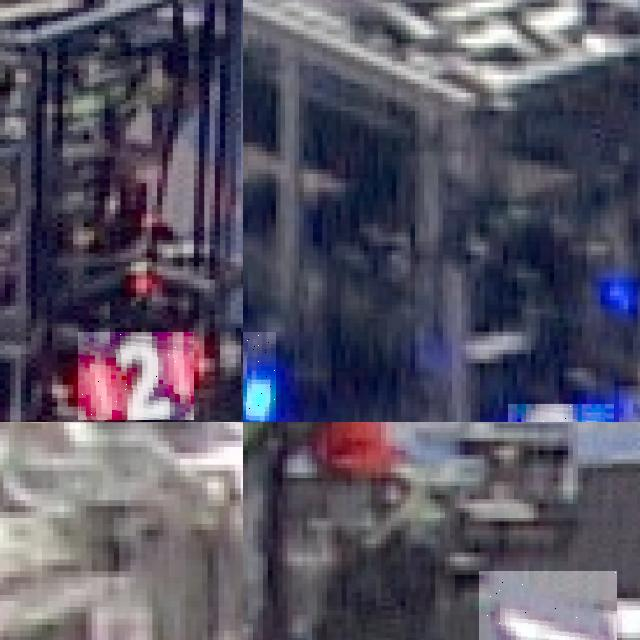B2: (243, 331, 276, 422), (507, 404, 614, 422)
R1: (479, 570, 617, 640)
R2: (78, 332, 194, 420)
